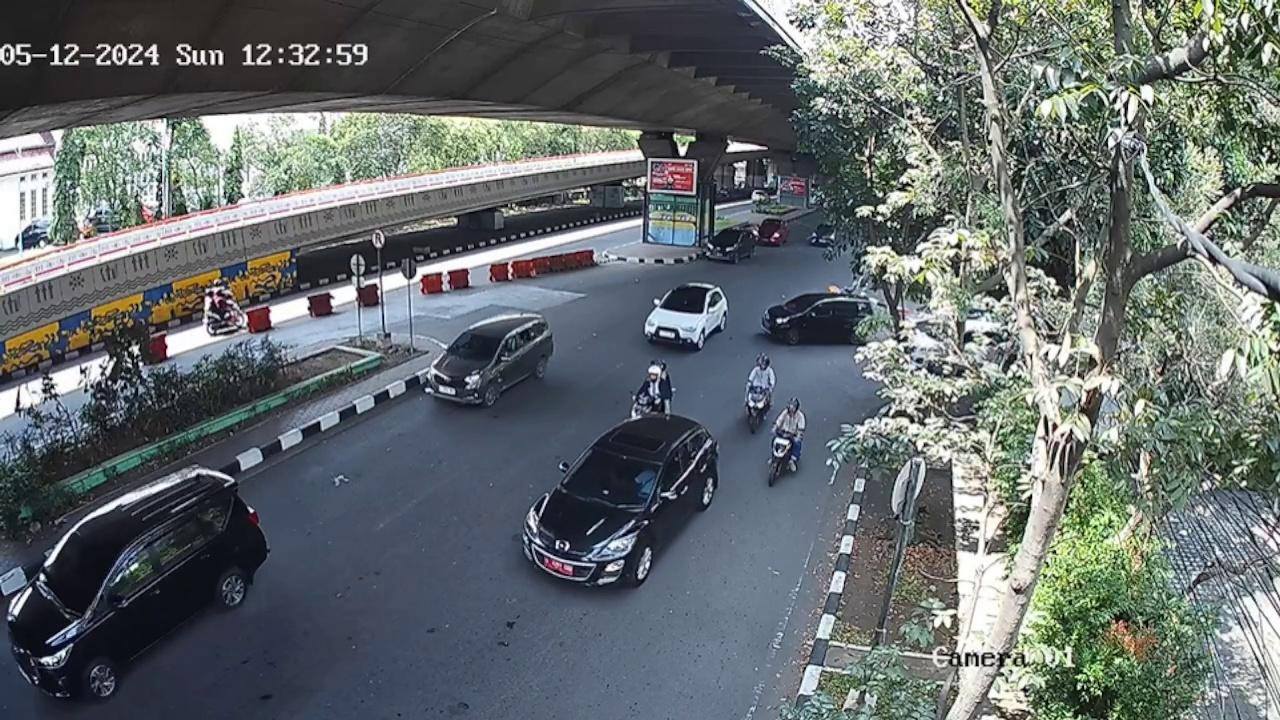pakai: (632, 469, 659, 499)
windshield: (565, 446, 665, 510), (446, 328, 503, 369)
